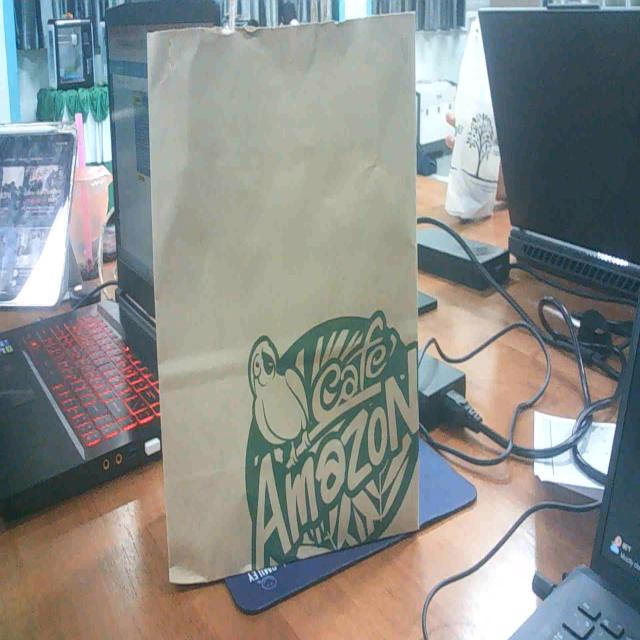bag: (136, 20, 450, 560)
